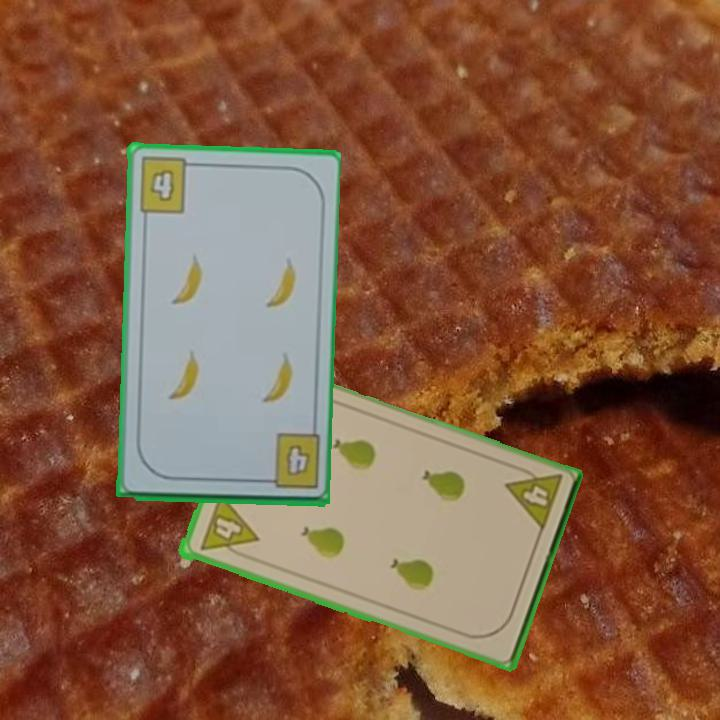4b: (256, 430, 322, 492), (135, 154, 199, 216)
4p: (501, 460, 565, 534), (196, 493, 260, 563)
